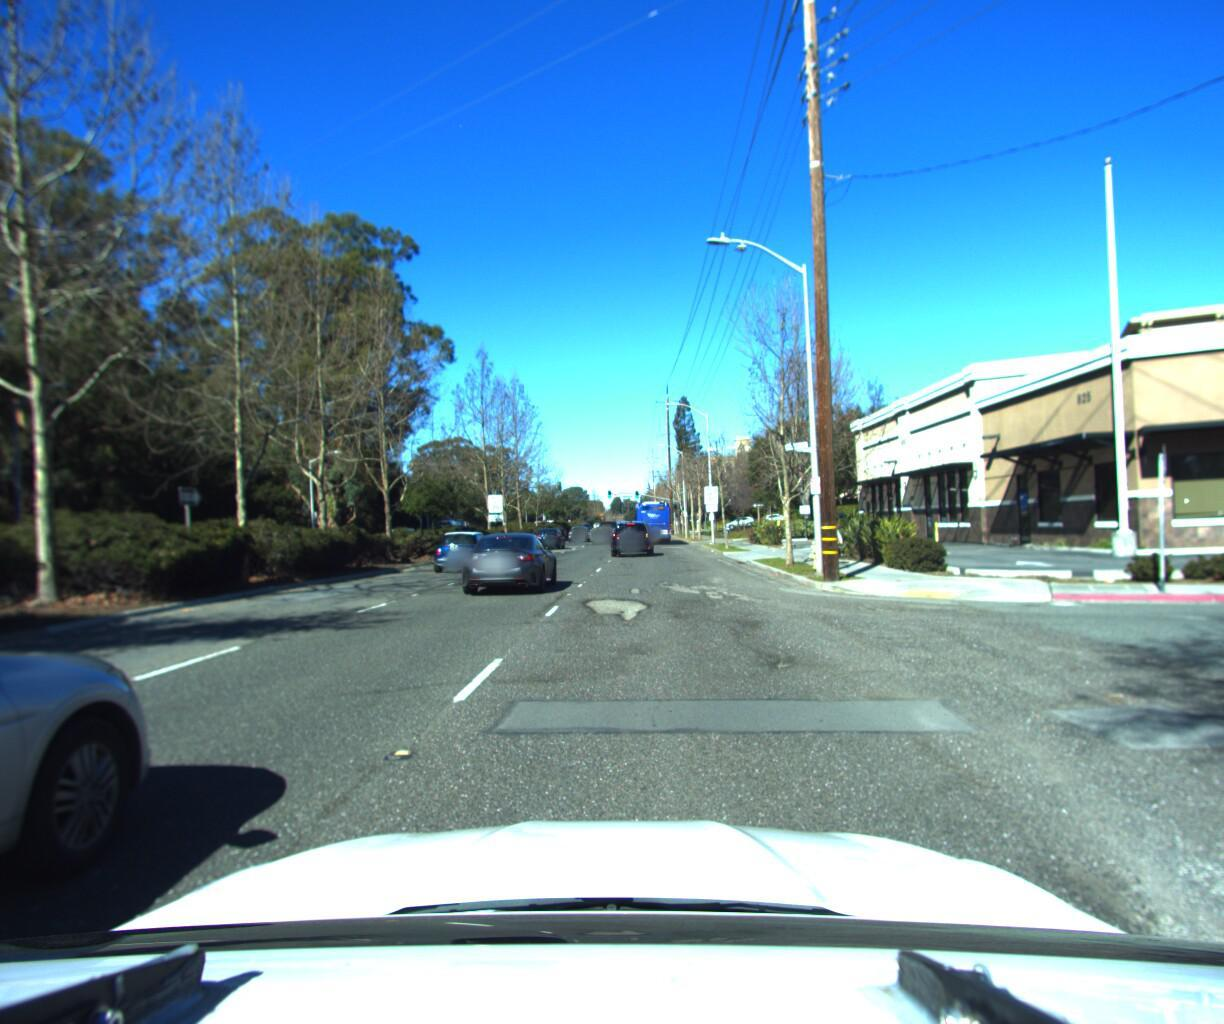bus: (631, 494, 674, 541)
car: (453, 526, 560, 595), (427, 524, 499, 571), (606, 515, 654, 554), (529, 520, 569, 547), (597, 517, 624, 539)
